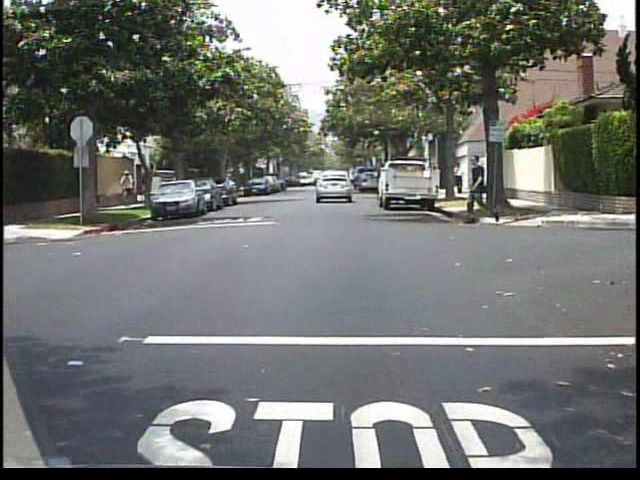person: (459, 153, 507, 230), (117, 167, 140, 204), (170, 169, 188, 203), (454, 160, 466, 198)
